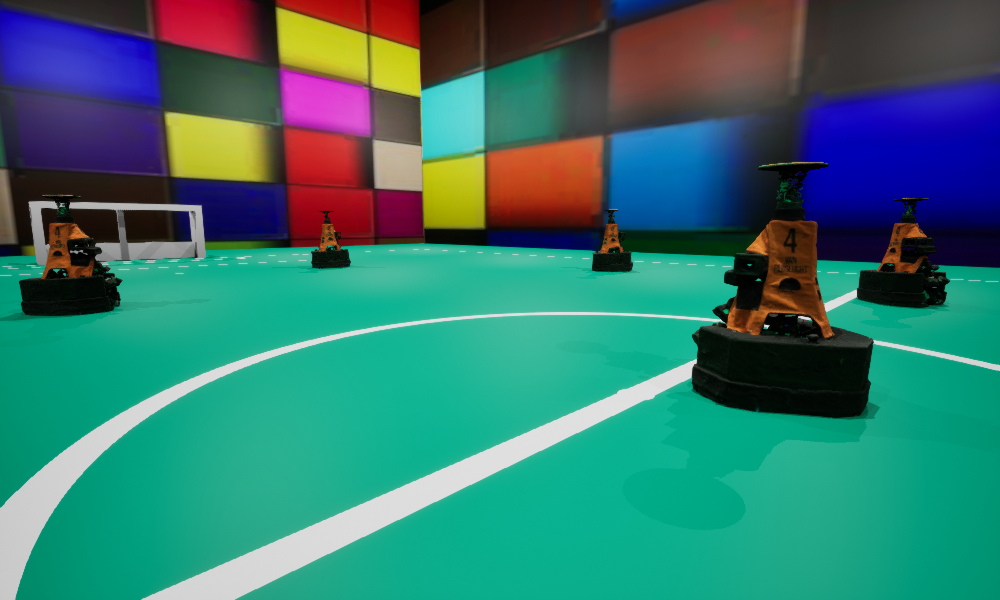0 orange robot TechUnited: (692, 162, 873, 417), (19, 195, 122, 315), (857, 198, 949, 307), (592, 209, 632, 271), (311, 211, 350, 268)
